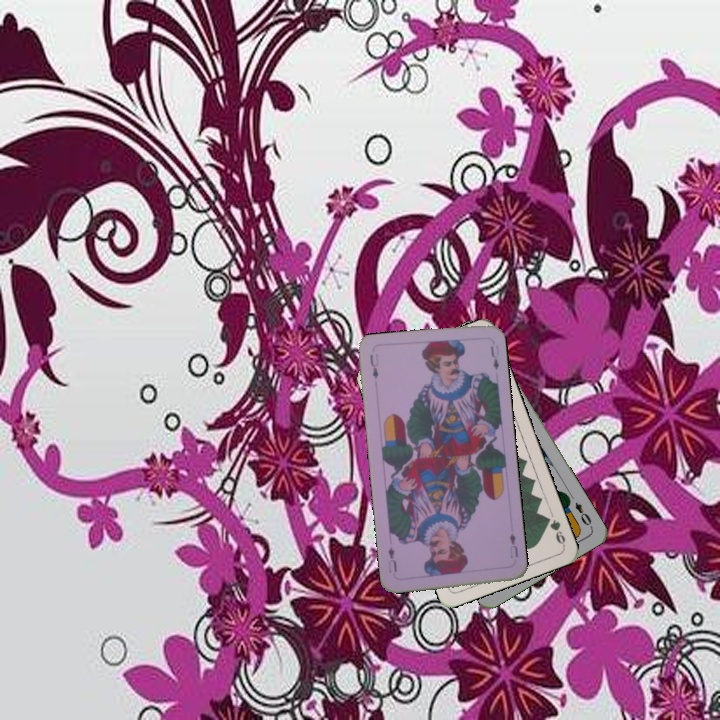EO: (571, 498, 595, 531)
EU: (366, 350, 381, 382), (505, 529, 520, 560)
G9: (541, 512, 568, 549)
